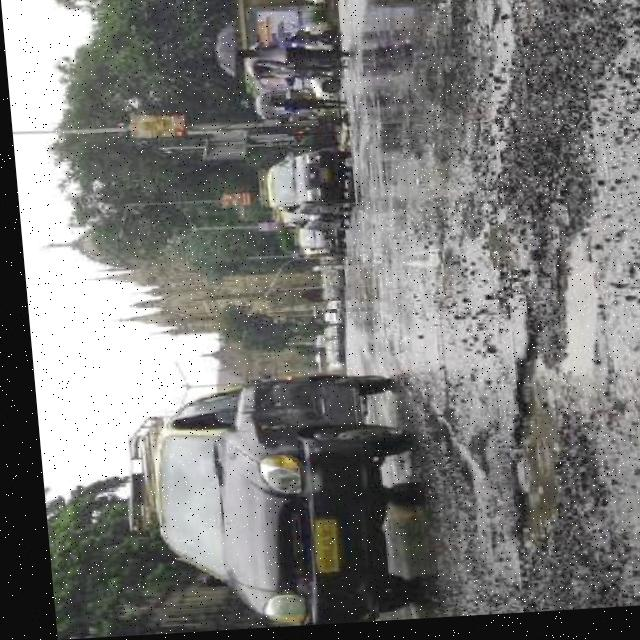Pothole: (487, 347, 562, 552), (527, 233, 600, 392)
